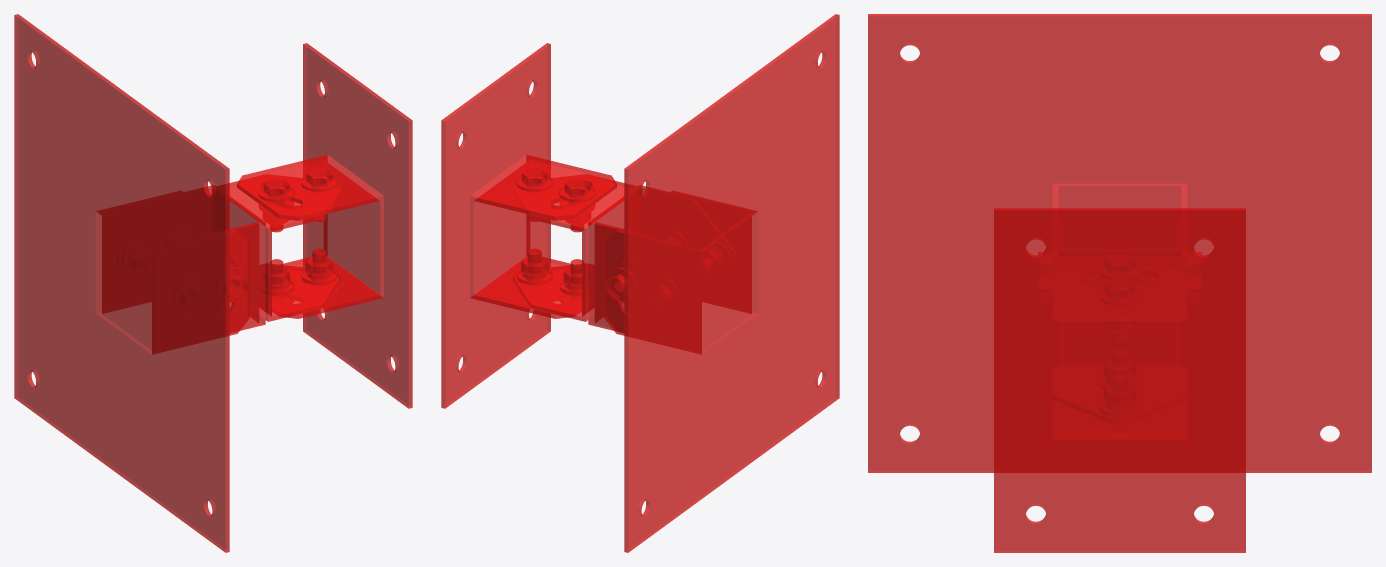
The picture shows the model from 3 angles, left to right: view 1: azimuth 30°, elevation 25°; view 2: azimuth 150°, elevation 25°; view 3: azimuth 270°, elevation 25°; orthographic projection. The views are drawn at different scales.
Visible parts, largest first — view 1: 【小坂】自在金具2 (アセンブリ)2; view 2: 【小坂】自在金具2 (アセンブリ)2; view 3: 【小坂】自在金具2 (アセンブリ)2.
Part boxes in pixels (bbox=[...]): 【小坂】自在金具2 (アセンブリ)2: bbox=[14, 14, 412, 552]; 【小坂】自在金具2 (アセンブリ)2: bbox=[441, 14, 839, 552]; 【小坂】自在金具2 (アセンブリ)2: bbox=[868, 14, 1371, 552].
Size of the model in its own units: 0.1964 by 0.3 by 0.3.
